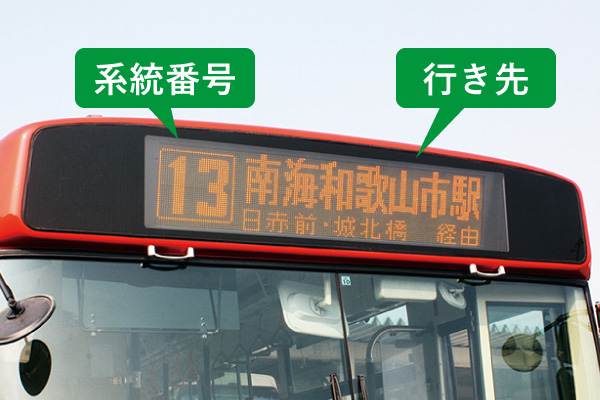destination: (144, 134, 511, 252)
